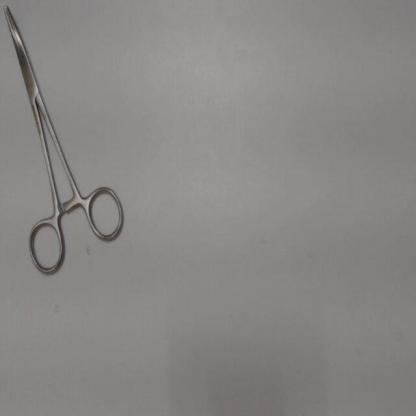Crile Artery Forceps: (0, 2, 128, 281)
